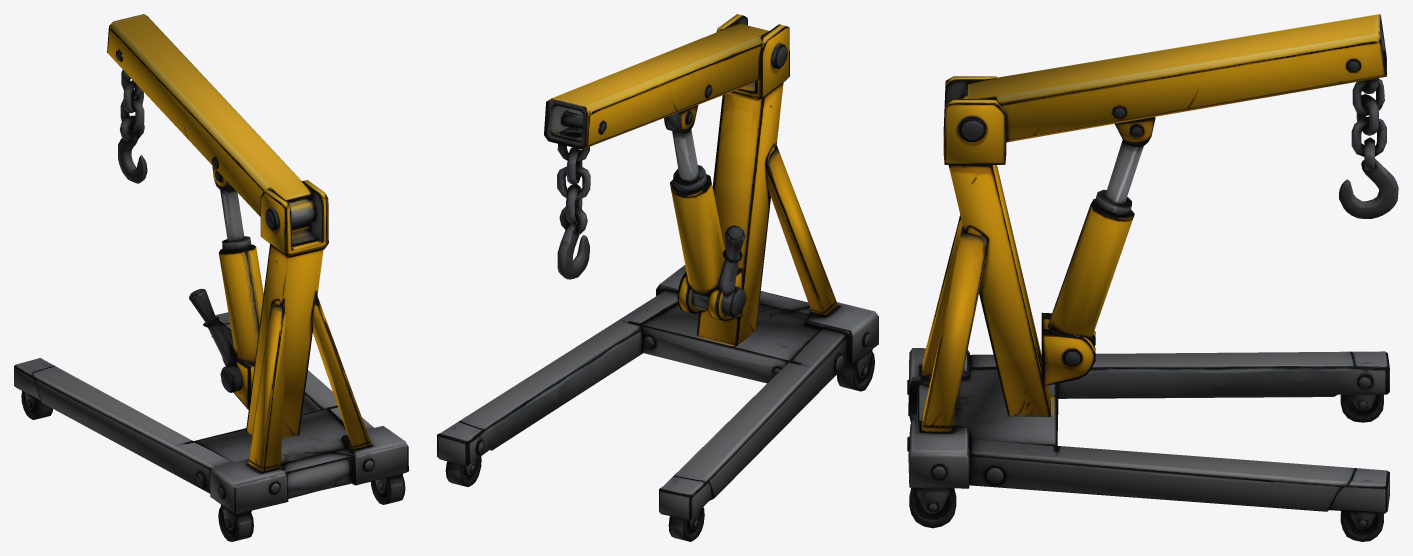
Rendered from hoist.glb.
The picture shows the model from 3 angles, left to right: view 1: azimuth 30°, elevation 25°; view 2: azimuth 150°, elevation 25°; view 3: azimuth 270°, elevation 25°; orthographic projection. The views are drawn at different scales.
Parts seen in each view (by area): view 1: tripo_node_ea00b1b0-8083-4830-8575-a74736b28d47; view 2: tripo_node_ea00b1b0-8083-4830-8575-a74736b28d47; view 3: tripo_node_ea00b1b0-8083-4830-8575-a74736b28d47.
Boxes of the visible parts, x1,y1,x2,y2 form: tripo_node_ea00b1b0-8083-4830-8575-a74736b28d47: (14,14,408,541); tripo_node_ea00b1b0-8083-4830-8575-a74736b28d47: (437,14,878,541); tripo_node_ea00b1b0-8083-4830-8575-a74736b28d47: (907,14,1398,541).
Bounding box in the file's own units: 1.54 × 2.4 × 2.35.
1 material, 1 textured.
